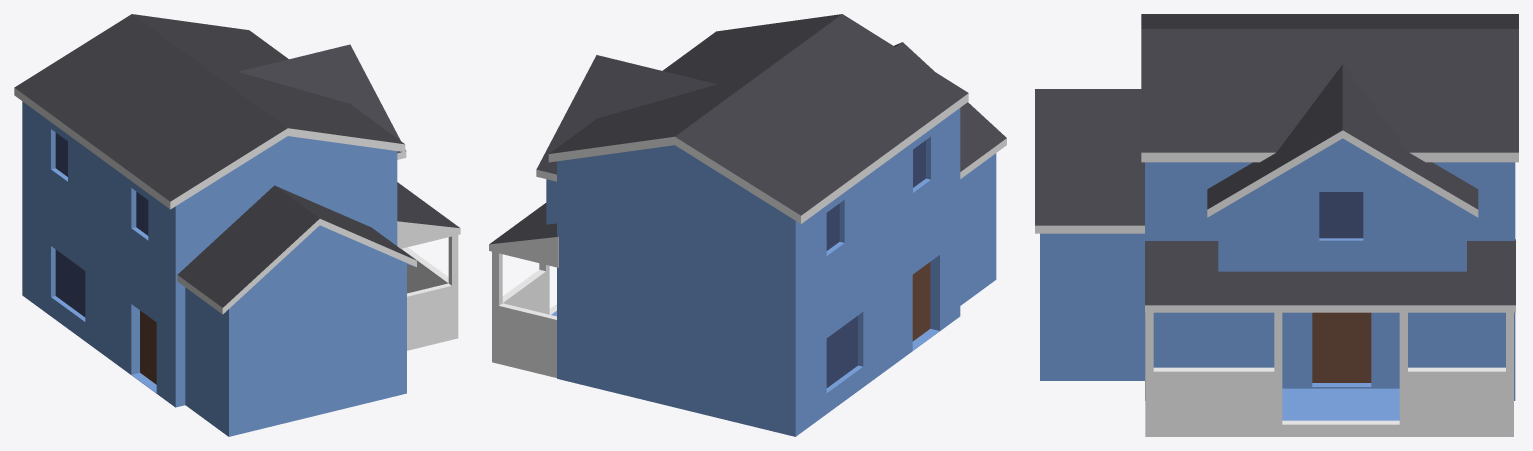
Rendered from house3.fbx.
The picture shows the model from 3 angles, left to right: view 1: azimuth 30°, elevation 25°; view 2: azimuth 150°, elevation 25°; view 3: azimuth 270°, elevation 25°; orthographic projection. The views are drawn at different scales.
Visible parts, largest first — view 1: Cube.035, Cube.034, Cube.036, Cube.033, Cube.032; view 2: Cube.035, Cube.034, Cube.036, Cube.033, Cube.032; view 3: Cube.035, Cube.036, Cube.034, Cube.033, Cube.032.
Part boxes in pixels (x1,y1,x2,y2): Cube.035: [14, 14, 405, 407]; Cube.034: [177, 185, 416, 436]; Cube.036: [238, 44, 406, 159]; Cube.033: [401, 235, 458, 350]; Cube.032: [397, 182, 460, 248]; Cube.035: [548, 14, 968, 436]; Cube.034: [894, 42, 1006, 305]; Cube.036: [536, 55, 716, 224]; Cube.033: [492, 251, 556, 377]; Cube.032: [489, 203, 558, 267]; Cube.035: [1141, 14, 1518, 400]; Cube.036: [1207, 64, 1478, 271]; Cube.034: [1035, 89, 1144, 380]; Cube.033: [1145, 312, 1513, 436]; Cube.032: [1145, 239, 1515, 312].
Bounding box in the file's own units: 1.64 × 1.36 × 1.94.
